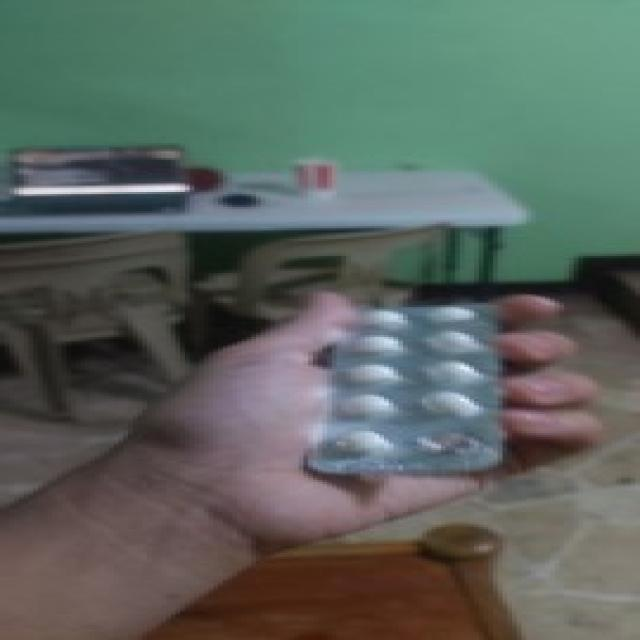Cacat: (308, 298, 503, 475)
Kemasan: (405, 426, 486, 464)
